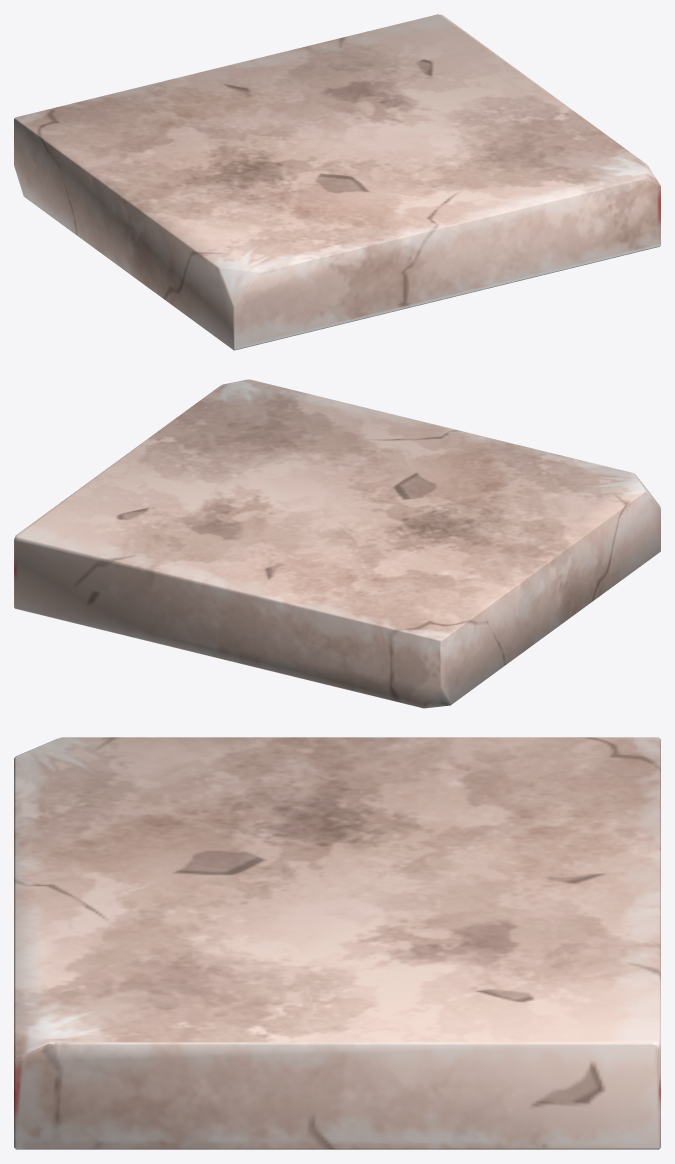
File: Z1_Big_Flat_Stone_1.FBX
3 renders of one model, top to bottom at view 1: azimuth 30°, elevation 25°; view 2: azimuth 150°, elevation 25°; view 3: azimuth 270°, elevation 25°, orthographic. The views are drawn at different scales.
Parts seen in each view (by area): view 1: Z1_Big_Flat_Stone_1; view 2: Z1_Big_Flat_Stone_1; view 3: Z1_Big_Flat_Stone_1.
Boxes of the visible parts, x1,y1,x2,y2 form: Z1_Big_Flat_Stone_1: (14, 14, 660, 350); Z1_Big_Flat_Stone_1: (14, 379, 660, 708); Z1_Big_Flat_Stone_1: (14, 737, 660, 1149).
Size of the model in its own units: 329 by 53.7 by 294.
